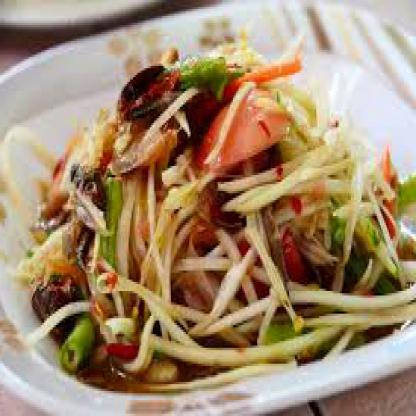Papaya Salad: (6, 27, 415, 414)
